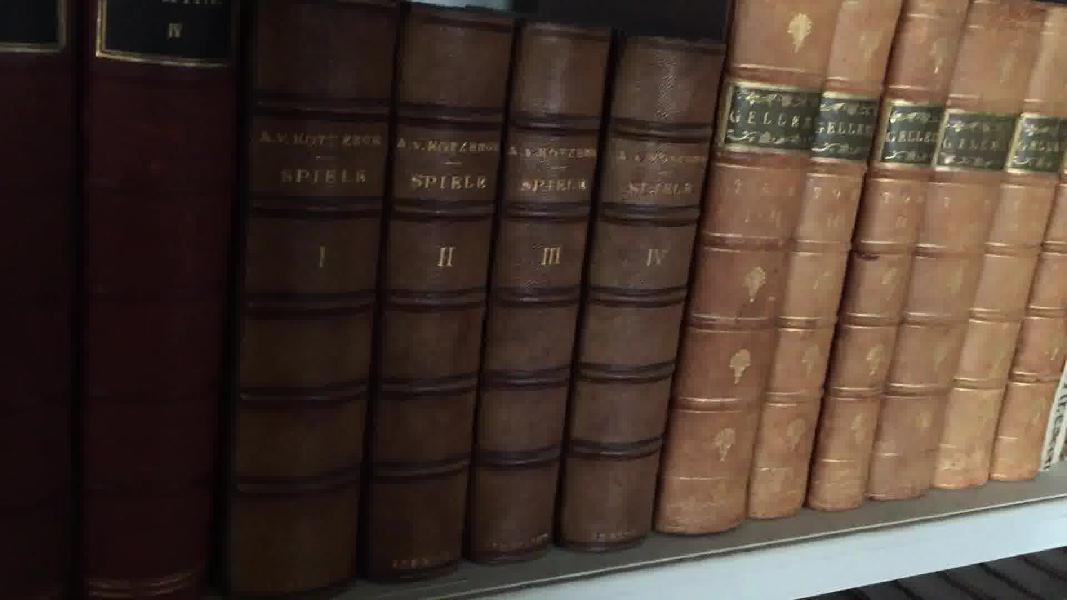Aa6-14_17: (233, 7, 727, 585)
Aa6-18_23: (656, 5, 1067, 536)
